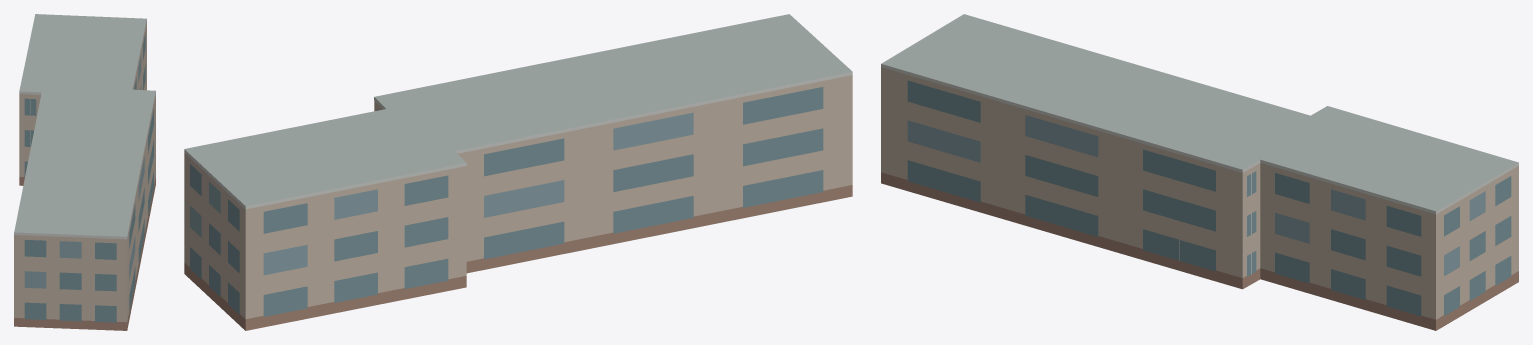
The model's file is survey-upis-32783462.glb.
The picture shows the model from 3 angles, left to right: view 1: azimuth 30°, elevation 25°; view 2: azimuth 150°, elevation 25°; view 3: azimuth 270°, elevation 25°; orthographic projection. The views are drawn at different scales.
Visible parts, largest first — view 1: survey-upis-32783462.tmp; view 2: survey-upis-32783462.tmp; view 3: survey-upis-32783462.tmp.
Boxes of the visible parts, bbox=[...] form: survey-upis-32783462.tmp: bbox=[14, 14, 155, 330]; survey-upis-32783462.tmp: bbox=[184, 14, 852, 330]; survey-upis-32783462.tmp: bbox=[881, 14, 1518, 330].
Bounding box in the file's own units: 32.4 × 9.15 × 44.25.
